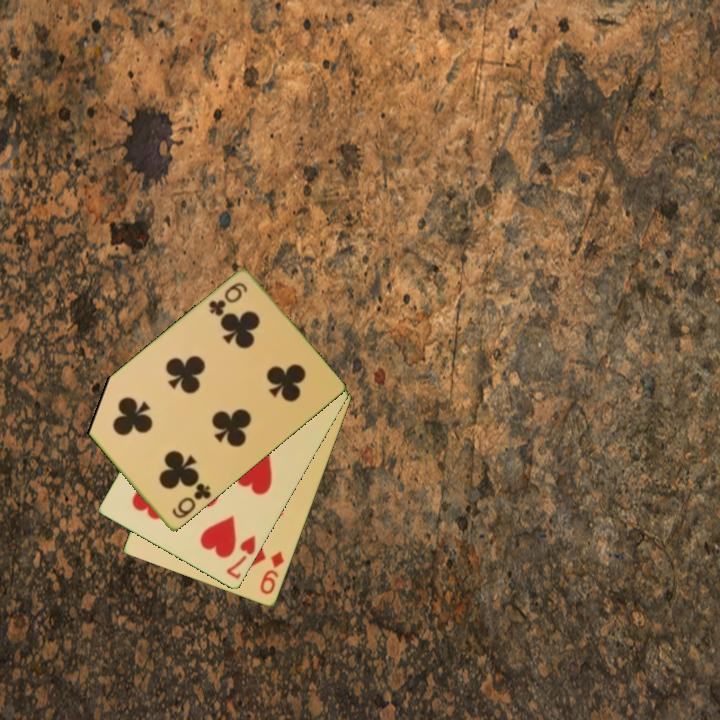6c: (168, 480, 214, 522), (205, 279, 250, 320)
7h: (223, 532, 259, 582)
9d: (256, 548, 287, 598)
